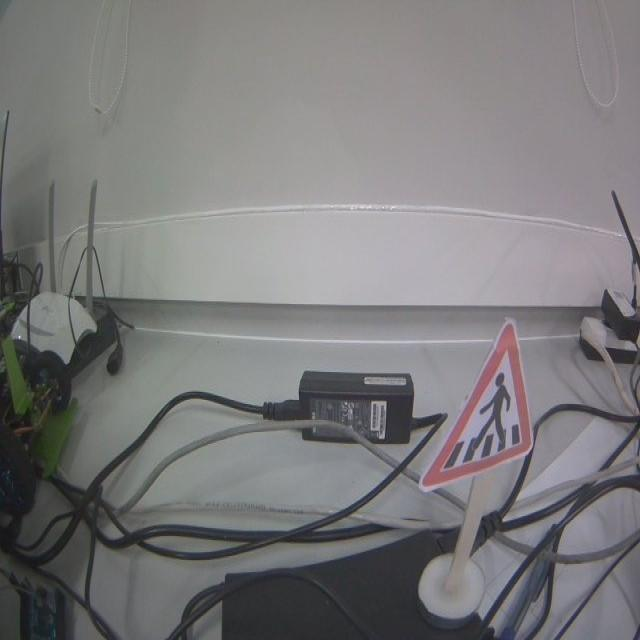Rambu Penyebrangan: (416, 320, 533, 491)
